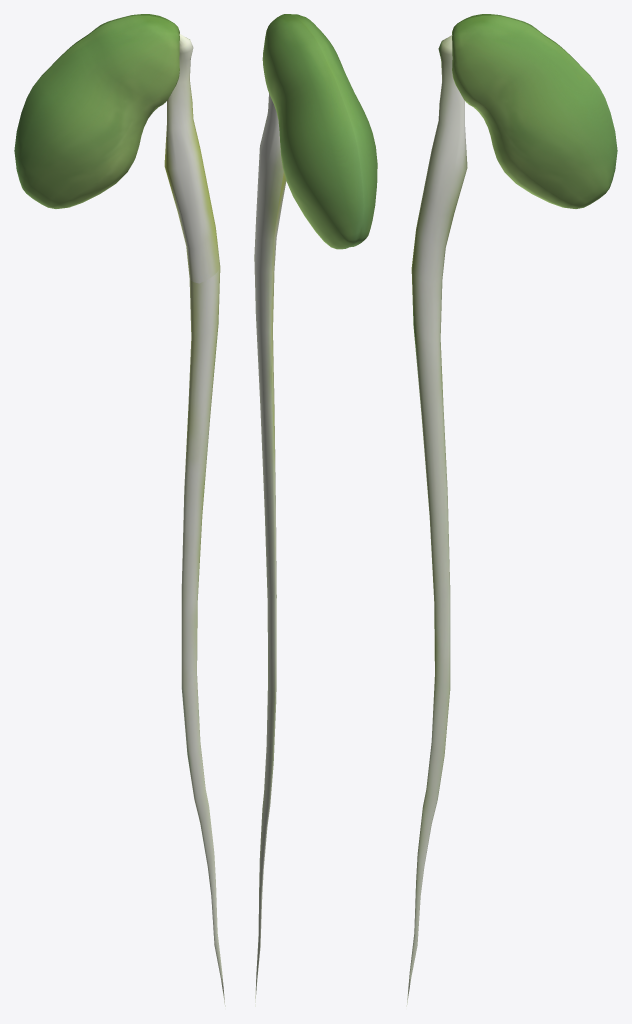
File: sw_zwqg_ld3.FBX
The picture shows the model from 3 angles, left to right: view 1: azimuth 90°, elevation 25°; view 2: azimuth 210°, elevation 25°; view 3: azimuth 270°, elevation 25°; orthographic projection. The views are drawn at different scales.
Parts seen in each view (by area): view 1: sw_zwqg_ld3_02, sw_zwqg_ld3_01; view 2: sw_zwqg_ld3_04, sw_zwqg_ld3_01, sw_zwqg_ld3_02; view 3: sw_zwqg_ld3_04, sw_zwqg_ld3_01.
Part boxes in pixels (x1,y1,x2,y2): sw_zwqg_ld3_02: (14,15,179,208); sw_zwqg_ld3_01: (164,34,225,1006); sw_zwqg_ld3_04: (262,14,363,249); sw_zwqg_ld3_01: (254,93,286,1006); sw_zwqg_ld3_02: (289,14,377,247); sw_zwqg_ld3_04: (452,15,617,208); sw_zwqg_ld3_01: (406,35,467,1006).
Size of the model in its own units: 1.43 by 18.64 by 3.59.
2 materials, 2 textured.
